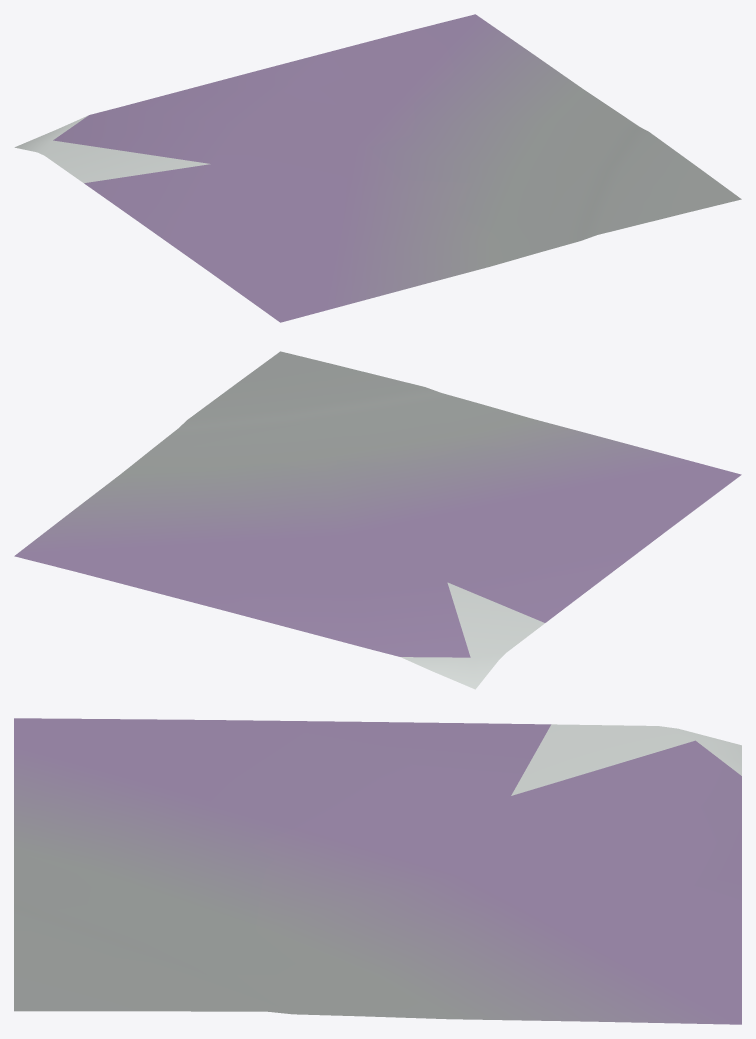
3 renders of one model, top to bottom at view 1: azimuth 30°, elevation 25°; view 2: azimuth 150°, elevation 25°; view 3: azimuth 270°, elevation 25°, orthographic. The views are drawn at different scales.
Visible parts, largest first — view 1: G:\FFXIV-MapTools\exports\m5f1\bg\ex4\02_mid_m5\fld\m5f1\bgp (×3); view 2: G:\FFXIV-MapTools\exports\m5f1\bg\ex4\02_mid_m5\fld\m5f1\bgp (×3); view 3: G:\FFXIV-MapTools\exports\m5f1\bg\ex4\02_mid_m5\fld\m5f1\bgp (×3).
Part boxes in pixels (x1=…): G:\FFXIV-MapTools\exports\m5f1\bg\ex4\02_mid_m5\fld\m5f1\bgp (×3): x1=14, y1=14, x2=741, y2=322; G:\FFXIV-MapTools\exports\m5f1\bg\ex4\02_mid_m5\fld\m5f1\bgp (×3): x1=14, y1=351, x2=741, y2=689; G:\FFXIV-MapTools\exports\m5f1\bg\ex4\02_mid_m5\fld\m5f1\bgp (×3): x1=14, y1=718, x2=741, y2=1024.
Size of the model in its own units: 128 by 8.11 by 128.
